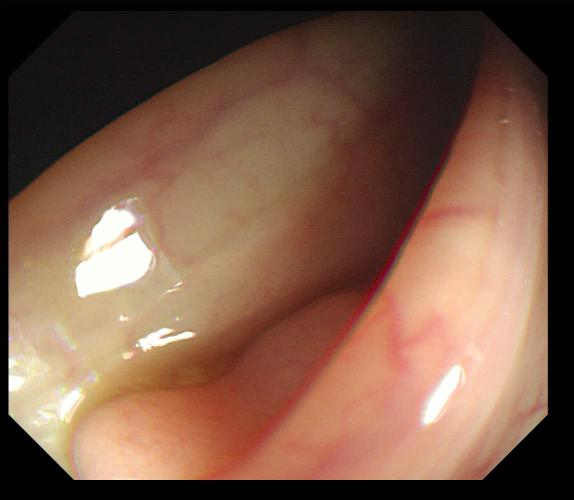polyp: (75, 284, 375, 479)
